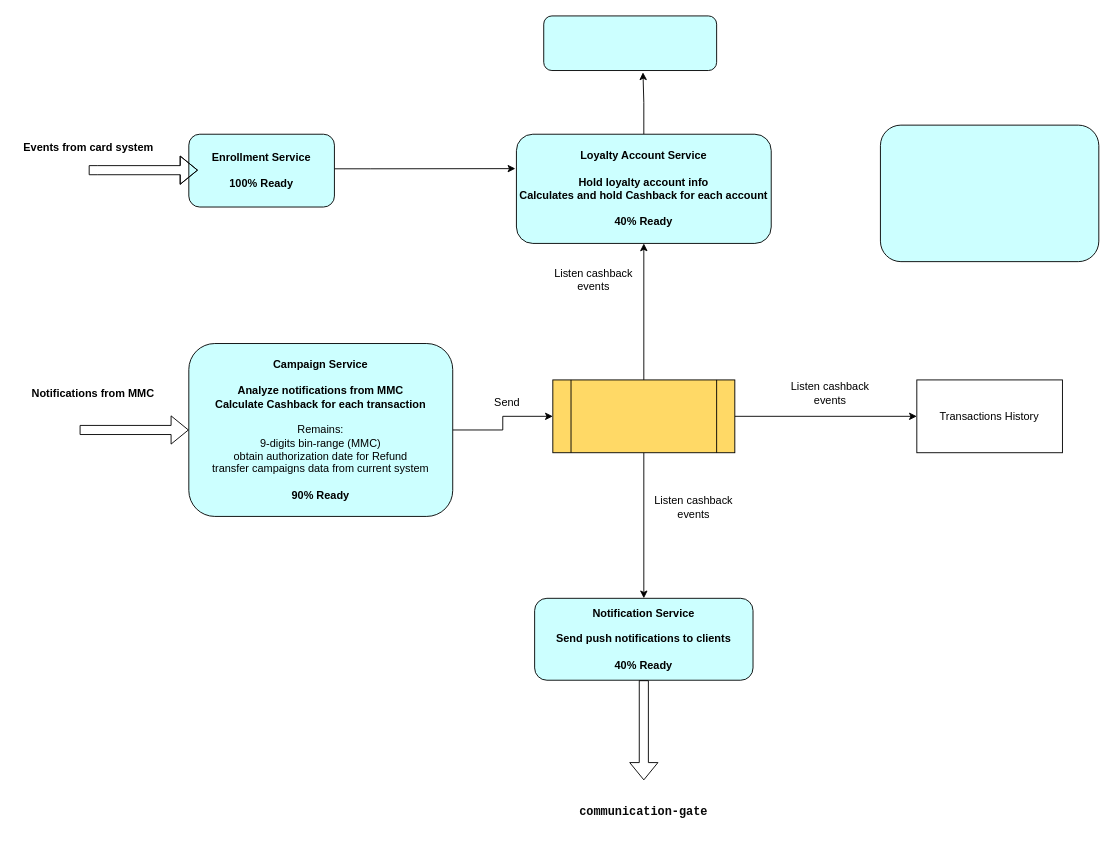
The diagram is 1115 pixels wide and 842 high, and some of its shapes have lost their labels. Here are the shapes that lost their labels. From the top down, the centre of each, then its label:
pixel 630 43: API Gateway 90% Ready
pixel 989 193: Cashflow Service T24 Transactions Not yet started
pixel 643 416: RabbitMQ Loyalty events
